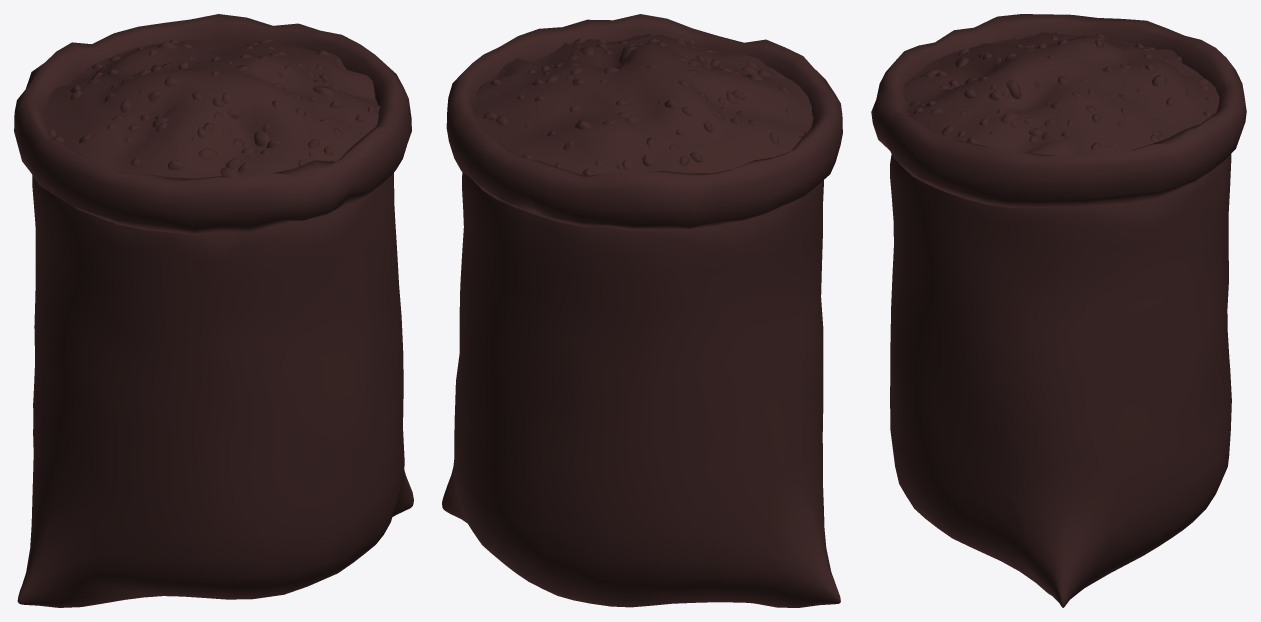
The model's file is Compost.fbx.
3 views of the same model, side by side, from view 1: azimuth 30°, elevation 25°; view 2: azimuth 150°, elevation 25°; view 3: azimuth 270°, elevation 25° (orthographic). The views are drawn at different scales.
Visible parts, largest first — view 1: compost_bag_02; view 2: compost_bag_02; view 3: compost_bag_02.
Part boxes in pixels (x1,y1,x2,y2): compost_bag_02: [14, 14, 413, 607]; compost_bag_02: [442, 14, 842, 607]; compost_bag_02: [871, 14, 1246, 607].
Size of the model in its own units: 53.95 by 65.67 by 47.05.
